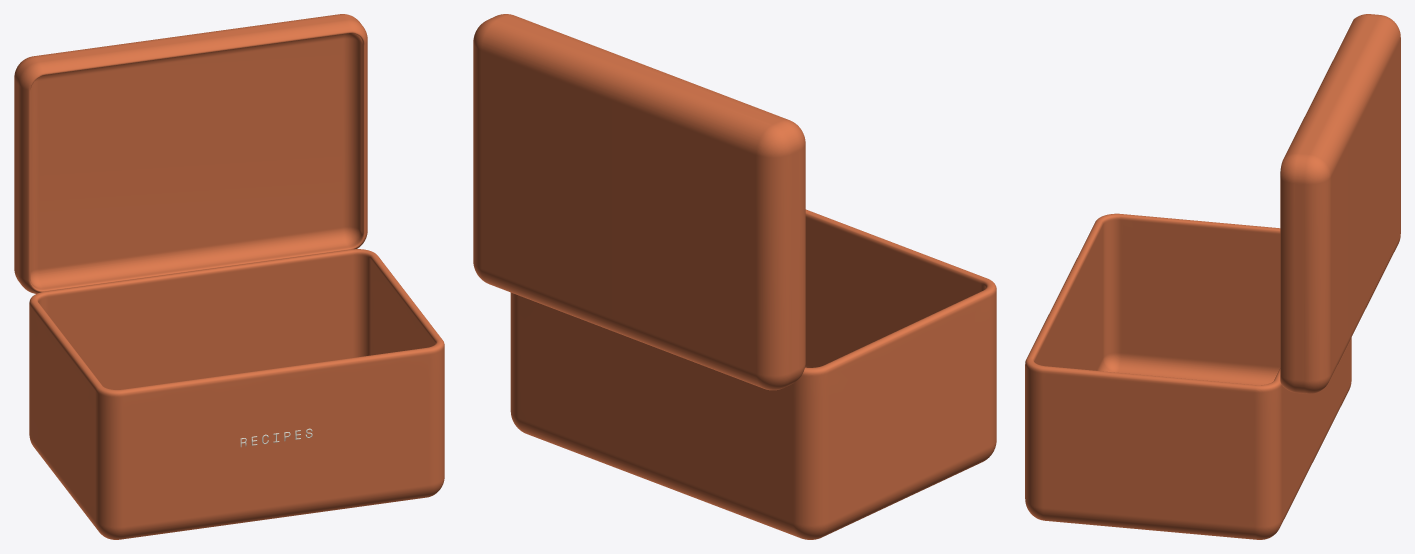
The model's file is archive.glb.
3 renders of one model, left to right at view 1: azimuth 30°, elevation 25°; view 2: azimuth 150°, elevation 25°; view 3: azimuth 270°, elevation 25°, orthographic. The views are drawn at different scales.
Visible parts, largest first — view 1: ar-box; view 2: ar-box; view 3: ar-box.
Boxes of the visible parts, box(x1,y1,x2,y2) form: ar-box: box(14, 14, 444, 539); ar-box: box(473, 14, 996, 539); ar-box: box(1025, 14, 1400, 539).
Size of the model in its own units: 0.1691 by 0.1695 by 0.1491.
